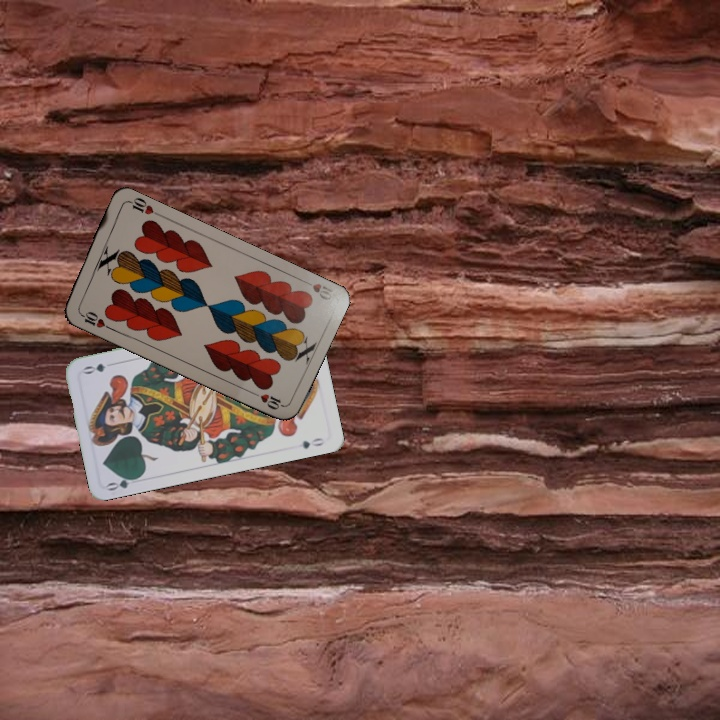GO: (103, 472, 144, 494)
H10: (297, 275, 337, 303), (75, 307, 113, 332)
